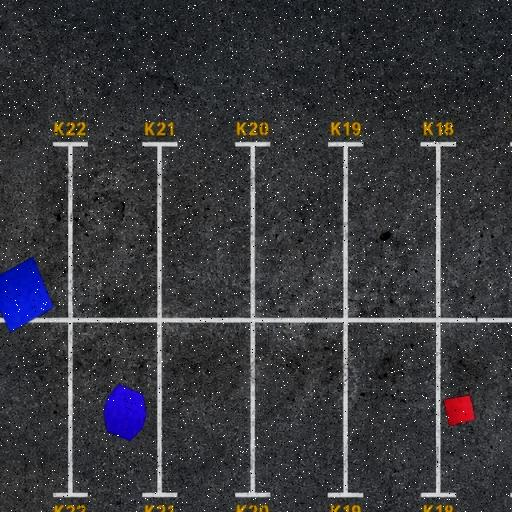BLUE_SQUARE: (0, 256, 54, 333)
RED_SQUARE: (442, 394, 476, 428)
